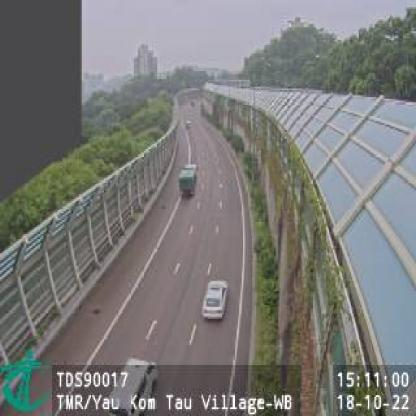Car: (104, 355, 158, 414), (200, 279, 230, 323)
Truck: (179, 163, 199, 198)
